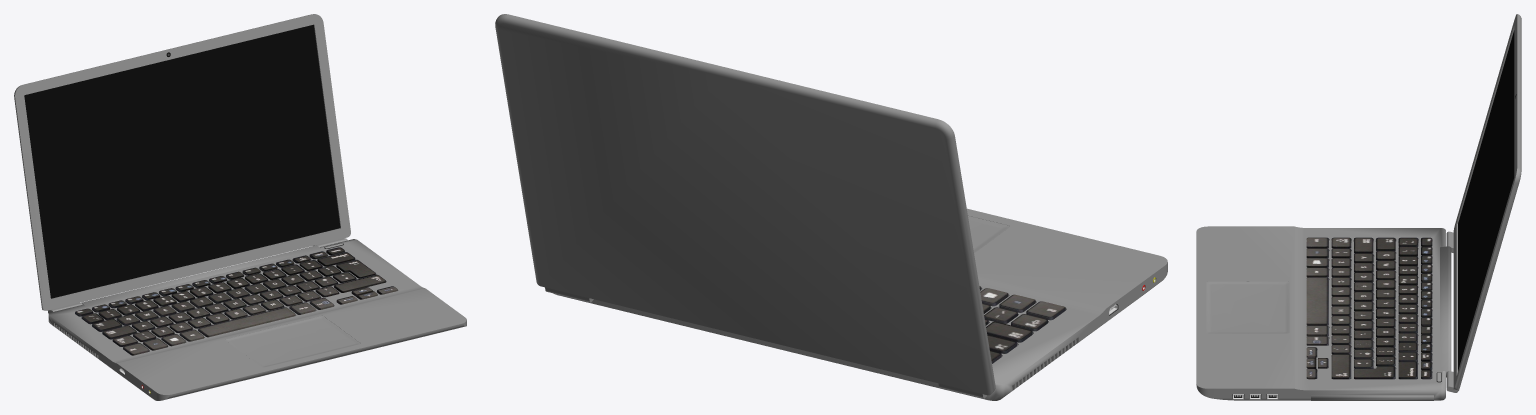
Rendered from laptop.glb.
The picture shows the model from 3 angles, left to right: view 1: azimuth 30°, elevation 25°; view 2: azimuth 150°, elevation 25°; view 3: azimuth 270°, elevation 25°; orthographic projection. The views are drawn at different scales.
Visible parts, largest first — view 1: screen, Laptop, keyboard; view 2: screen, Laptop, keyboard; view 3: Laptop, keyboard, screen.
Part boxes in pixels (x1,y1,x2,y2): screen: [14, 14, 350, 313]; Laptop: [48, 239, 466, 400]; keyboard: [75, 247, 397, 355]; screen: [495, 14, 995, 398]; Laptop: [553, 208, 1167, 400]; keyboard: [979, 286, 1065, 363]; Laptop: [1196, 226, 1451, 400]; keyboard: [1306, 237, 1432, 379]; screen: [1446, 14, 1521, 392].
Bounding box in the file's own units: 0.3998 × 0.2648 × 0.3384.
9 materials, 1 textured.
